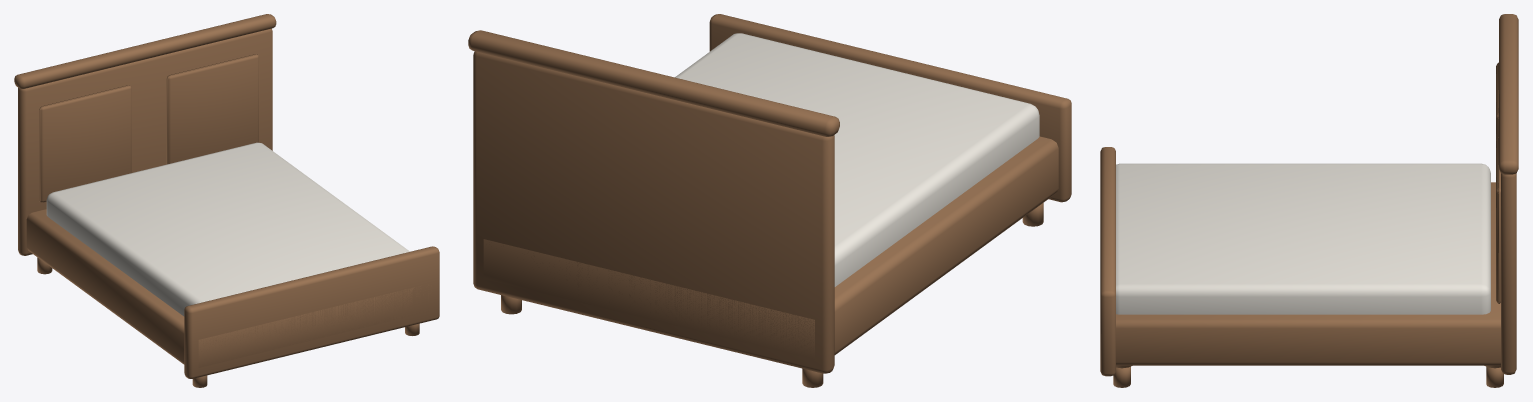
File: vintage_bed_02.glb
3 views of the same model, side by side, from view 1: azimuth 30°, elevation 25°; view 2: azimuth 150°, elevation 25°; view 3: azimuth 270°, elevation 25° (orthographic). The views are drawn at different scales.
Visible parts, largest first — view 1: vintage_bed_02; view 2: vintage_bed_02; view 3: vintage_bed_02.
Boxes of the visible parts, <box> form: vintage_bed_02: <box>14,14,439,387</box>; vintage_bed_02: <box>468,14,1071,387</box>; vintage_bed_02: <box>1100,14,1518,387</box>.
Size of the model in its own units: 1.82 by 1.32 by 2.13.
